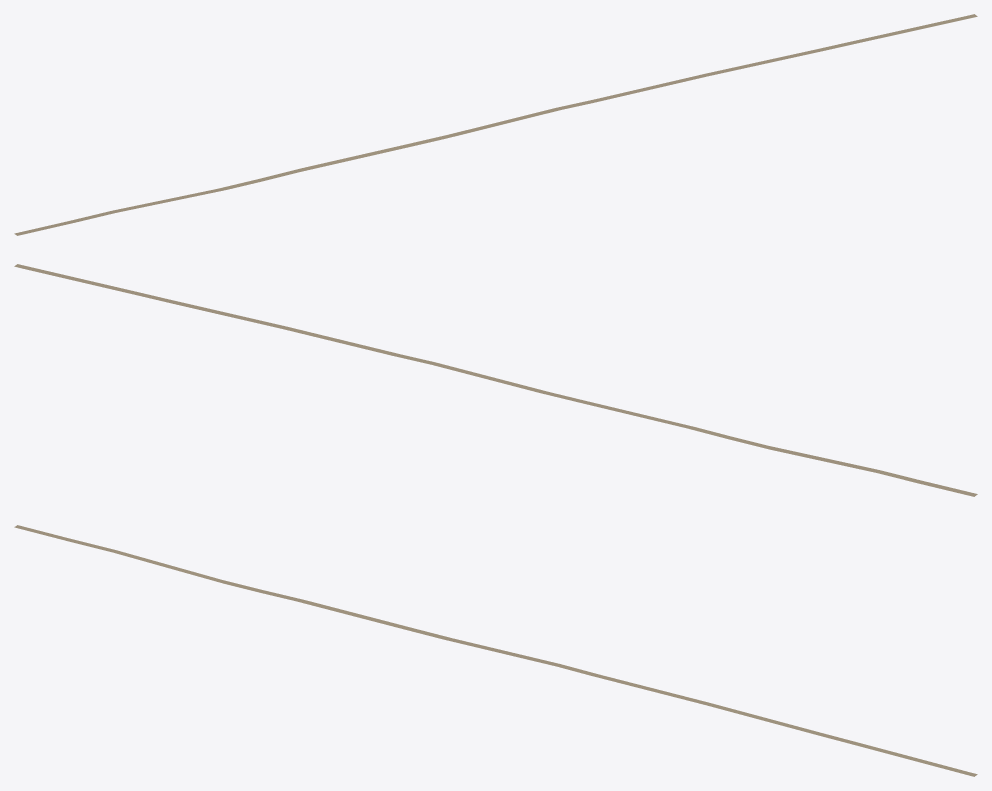
The model's file is farm_20_15_track.glb.
3 views of the same model, one above another, from view 1: azimuth 30°, elevation 25°; view 2: azimuth 150°, elevation 25°; view 3: azimuth 330°, elevation 25° (orthographic).
Visible parts, largest first — view 1: geometry_0; view 2: geometry_0; view 3: geometry_0.
Part boxes in pixels (x1,y1,x2,y2): geometry_0: (14, 14, 977, 235); geometry_0: (14, 264, 977, 496); geometry_0: (14, 525, 977, 776).
Bounding box in the file's own units: 518 × 4.99 × 8.56.
